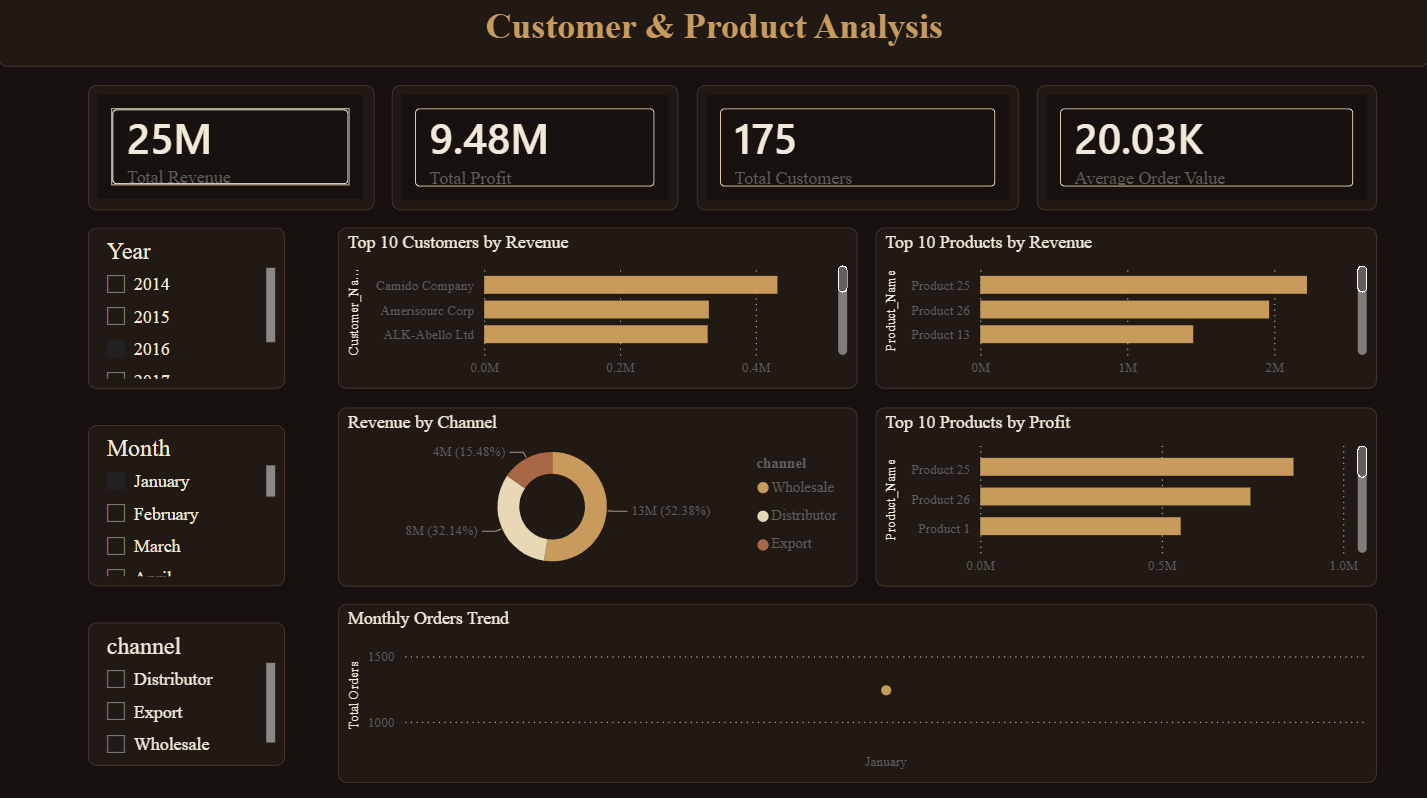

Layout of this report page (visuals, bound fields, positions):
{"tool":"powerbi","page":{"name":"Customer & Product Analysis","canvas":[1280,720],"ordinal":2},"visuals":[{"type":"textbox","box":[0,0,1280,64],"z":0},{"type":"cardVisual","fields":{"Data":["cleaned_sales_data.Total Revenue"]},"box":[80,80,256,112],"z":1000},{"type":"cardVisual","fields":{"Data":["cleaned_sales_data.Total Profit"]},"box":[352,80,256,112],"z":2000},{"type":"cardVisual","fields":{"Data":["cleaned_sales_data.Total Customers"]},"box":[624,80,288,112],"z":3000},{"type":"cardVisual","fields":{"Data":["cleaned_sales_data.Average Order Value"]},"box":[928,80,304,112],"z":4000},{"type":"clusteredBarChart","title":"Top 10 Customers by Revenue","fields":{"Category":["cleaned_sales_data.Customer_Name"],"Y":["cleaned_sales_data.Total Revenue"]},"box":[304,208,464,144],"z":5000},{"type":"clusteredBarChart","title":"Top 10 Products by Revenue","fields":{"Category":["cleaned_sales_data.Product_Name"],"Y":["cleaned_sales_data.Total Revenue"]},"box":[784,208,448,144],"z":6000},{"type":"donutChart","title":"Revenue by Channel","fields":{"Category":["cleaned_sales_data.channel"],"Y":["cleaned_sales_data.Total Revenue"]},"box":[304,368,464,160],"z":7000},{"type":"clusteredBarChart","title":"Top 10 Products by Profit","fields":{"Category":["cleaned_sales_data.Product_Name"],"Y":["cleaned_sales_data.Total Profit"]},"box":[784,368,448,160],"z":8000},{"type":"lineChart","title":"Monthly Orders Trend","fields":{"Y":["cleaned_sales_data.Total Orders"],"Category":["cleaned_sales_data.order_month_name"]},"box":[304,544,928,160],"z":9000},{"type":"slicer","fields":{"Values":["cleaned_sales_data.order_date.Variation.Date Hierarchy.Year"]},"box":[80,208,176,144],"z":10000},{"type":"slicer","fields":{"Values":["cleaned_sales_data.order_date.Variation.Date Hierarchy.Month"]},"box":[80,384,176,144],"z":11000},{"type":"slicer","fields":{"Values":["cleaned_sales_data.channel"]},"box":[80,560,176,128],"z":12000}]}

Visuals, with their boxes in screenshot pixels (x1, y1, x2, y2), scaled from the page's 1280x720 canvas onto the 1427x798 screenshot:
textbox: 0, 0, 1426, 71
cardVisual - cleaned_sales_data.Total Revenue: 89, 89, 375, 213
cardVisual - cleaned_sales_data.Total Profit: 392, 89, 678, 213
cardVisual - cleaned_sales_data.Total Customers: 696, 89, 1017, 213
cardVisual - cleaned_sales_data.Average Order Value: 1035, 89, 1373, 213
"Top 10 Customers by Revenue" clusteredBarChart: 339, 231, 856, 390
"Top 10 Products by Revenue" clusteredBarChart: 874, 231, 1373, 390
"Revenue by Channel" donutChart: 339, 408, 856, 585
"Top 10 Products by Profit" clusteredBarChart: 874, 408, 1373, 585
"Monthly Orders Trend" lineChart: 339, 603, 1373, 780
slicer - cleaned_sales_data.order_date.Variation.Date Hierarchy.Year: 89, 231, 285, 390
slicer - cleaned_sales_data.order_date.Variation.Date Hierarchy.Month: 89, 426, 285, 585
slicer - cleaned_sales_data.channel: 89, 621, 285, 763
